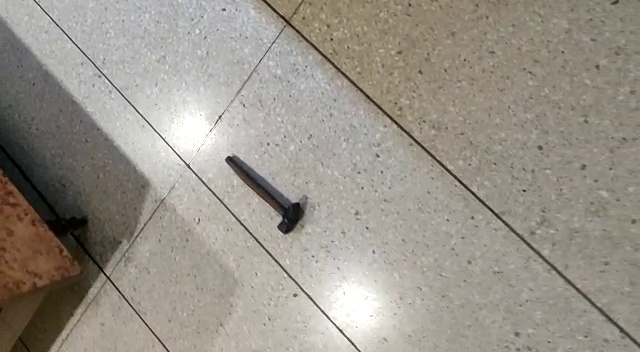hammer: (222, 155, 303, 237)
